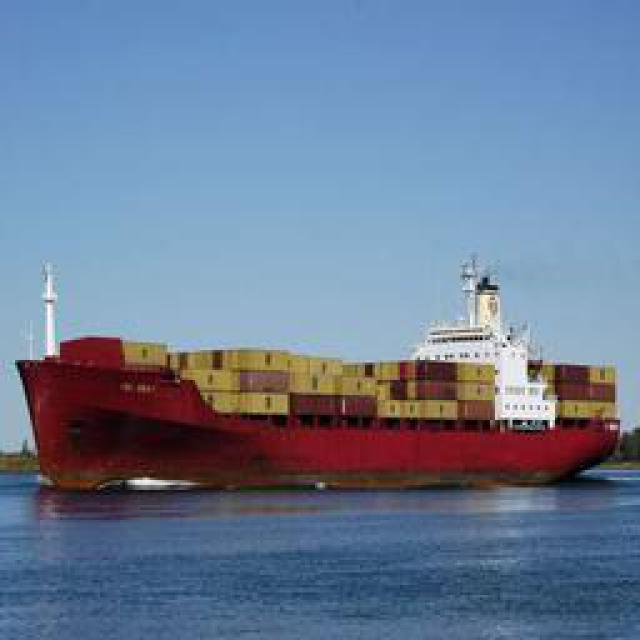Ship: (30, 257, 625, 485)
